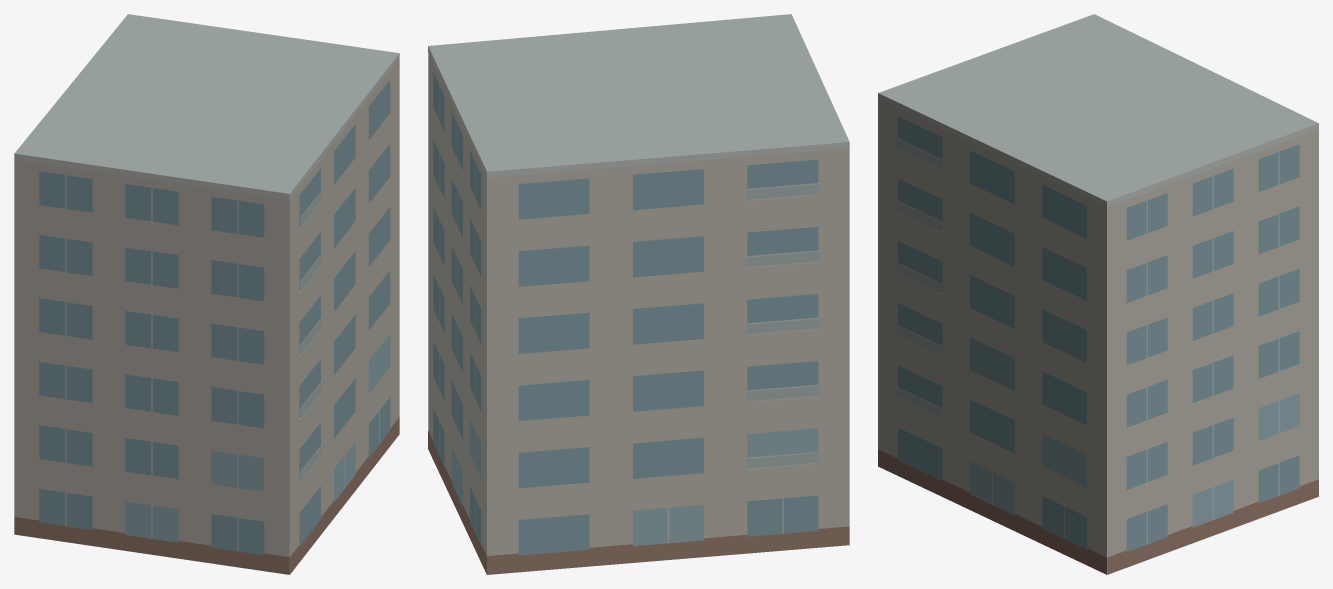
Rendered from survey-upis-32889220.glb.
3 renders of one model, left to right at view 1: azimuth 30°, elevation 25°; view 2: azimuth 150°, elevation 25°; view 3: azimuth 270°, elevation 25°, orthographic. The views are drawn at different scales.
Parts seen in each view (by area): view 1: survey-upis-32889220.tmp; view 2: survey-upis-32889220.tmp; view 3: survey-upis-32889220.tmp.
Part boxes in pixels (x1,y1,x2,y2): survey-upis-32889220.tmp: (14,14,399,574); survey-upis-32889220.tmp: (428,14,849,574); survey-upis-32889220.tmp: (878,14,1318,574).
Bounding box in the file's own units: 16.91 × 15.7 × 16.8.
